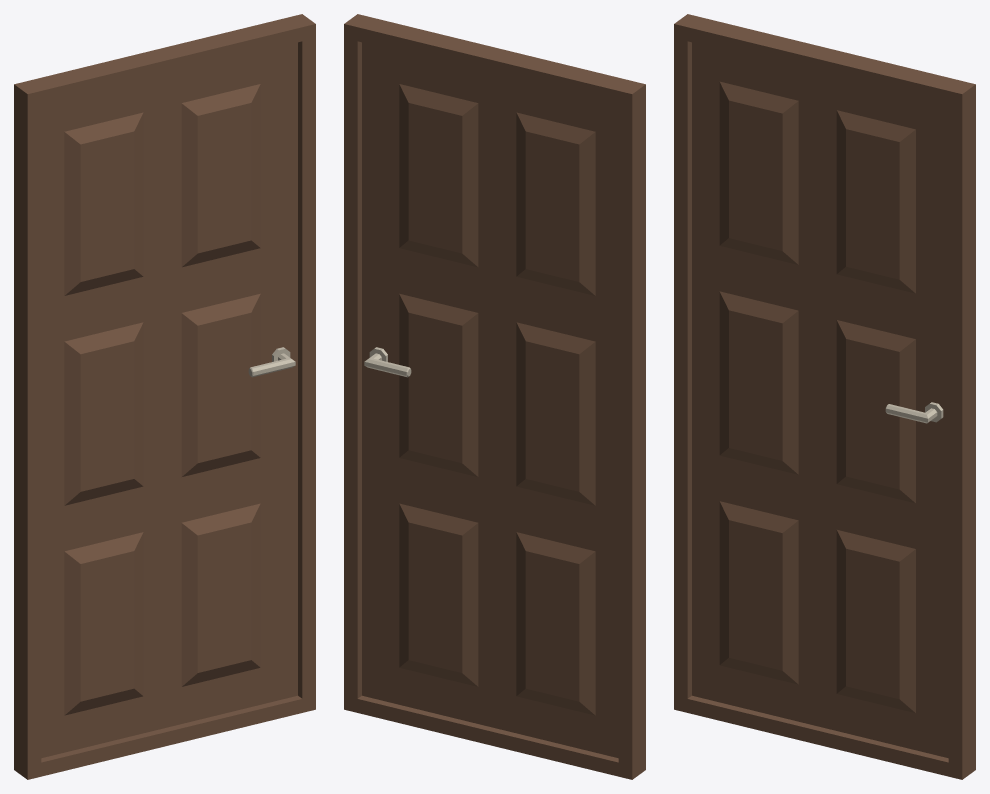
File: Mesh_Door_A06.fbx
The picture shows the model from 3 angles, left to right: view 1: azimuth 30°, elevation 25°; view 2: azimuth 150°, elevation 25°; view 3: azimuth 330°, elevation 25°; orthographic projection.
Parts seen in each view (by area): view 1: Mesh_Door_A06; view 2: Mesh_Door_A06; view 3: Mesh_Door_A06.
Part boxes in pixels (bbox=[...]): Mesh_Door_A06: bbox=[14, 14, 315, 779]; Mesh_Door_A06: bbox=[344, 14, 645, 779]; Mesh_Door_A06: bbox=[674, 14, 975, 779].
Bounding box in the file's own units: 0.9 × 2.05 × 0.1482.
